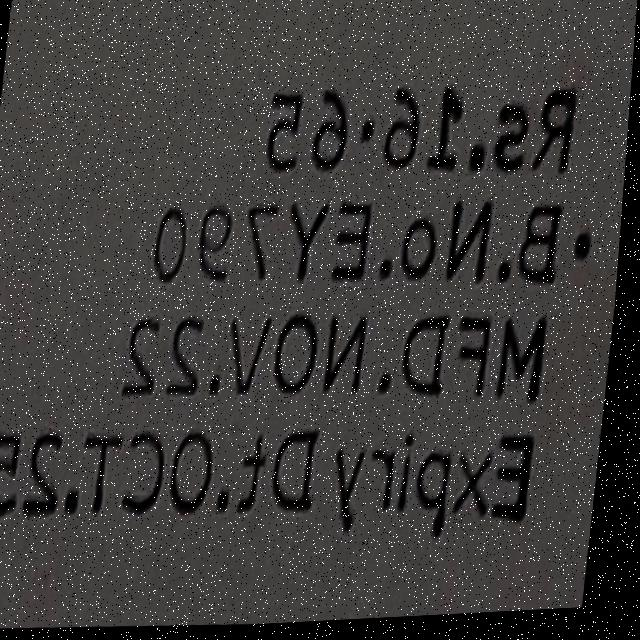sentence: (0, 431, 542, 541), (129, 314, 551, 409), (157, 202, 566, 298), (268, 71, 578, 181)
